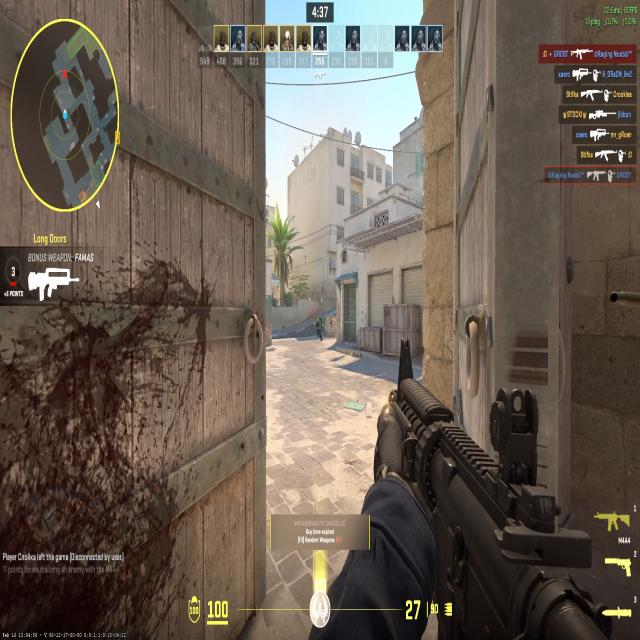player: (315, 313, 324, 343)
